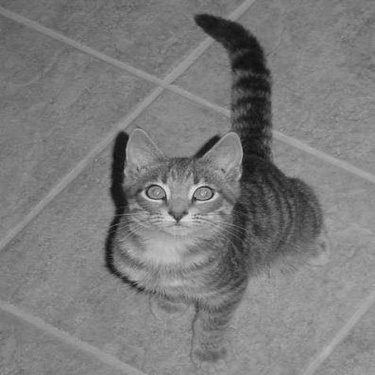cat: (77, 1, 341, 370)
